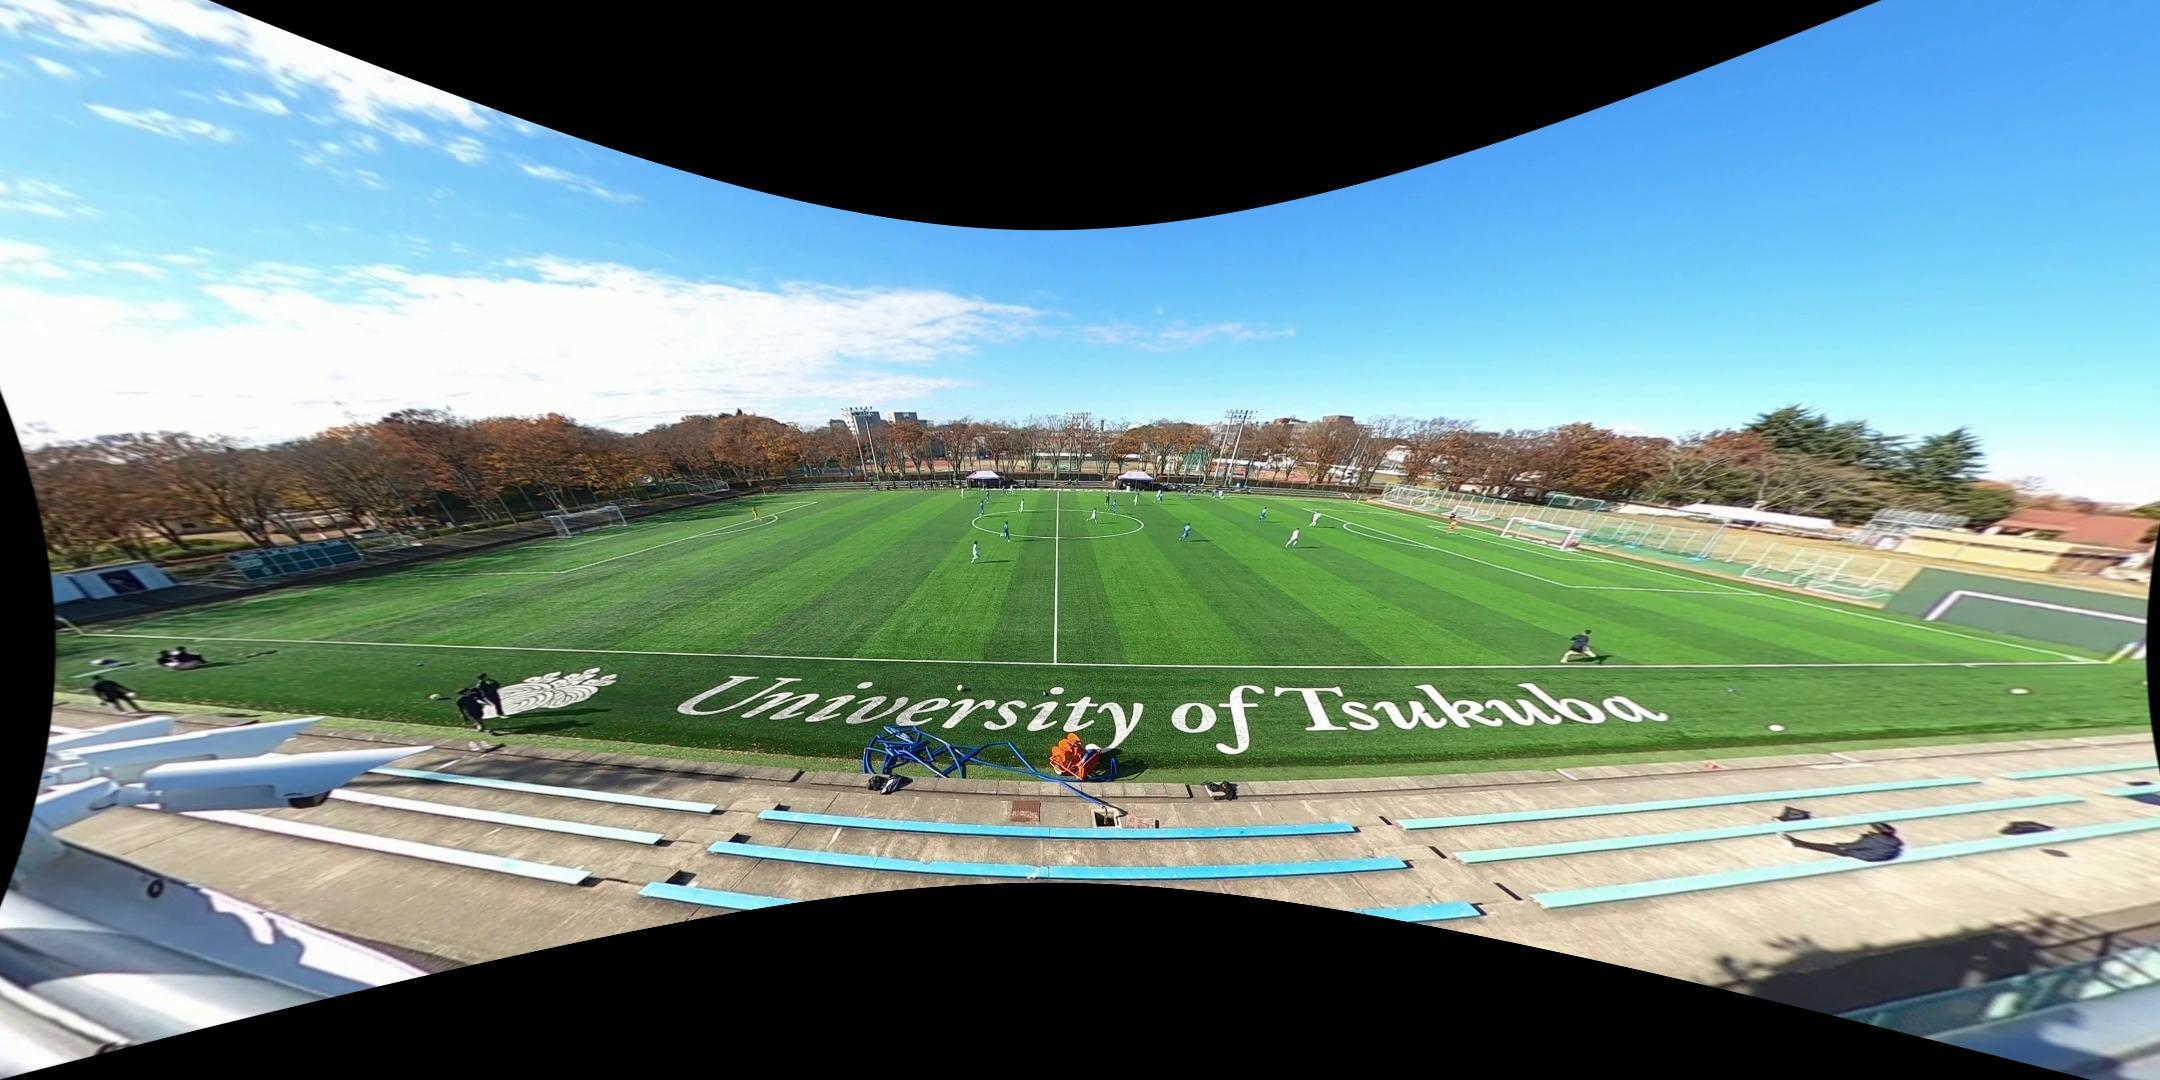person: (1560, 626, 1607, 669), (1284, 527, 1303, 548), (998, 520, 1013, 542), (1177, 523, 1192, 540), (1307, 511, 1322, 527), (1445, 518, 1459, 535), (749, 504, 762, 522), (970, 541, 979, 564), (1087, 508, 1100, 523), (1153, 489, 1164, 506), (1258, 507, 1268, 523), (1017, 498, 1026, 514), (1103, 492, 1112, 506), (1132, 493, 1141, 507), (978, 501, 985, 518), (959, 486, 967, 500), (1109, 499, 1117, 513), (984, 489, 990, 504), (1182, 490, 1191, 499), (1218, 489, 1224, 501), (1000, 485, 1005, 497), (1210, 490, 1216, 500), (1009, 483, 1013, 495)
sports ball: (1220, 496, 1224, 500)
